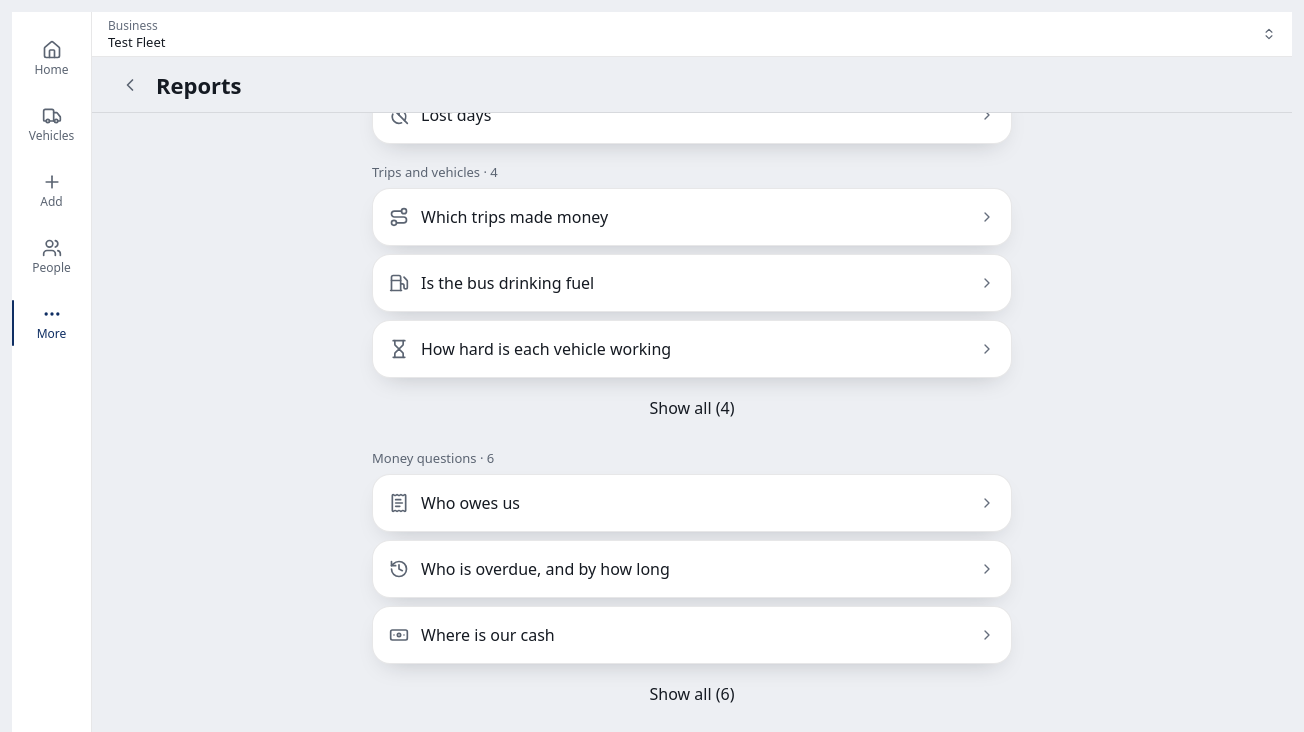
Test: the catalogue also shows the owner-only pair for owner_manager
(page scrolled)
Expected: the text "How hard is each vehicle working" is shown, [421,337,671,361]
Click the button "Show all (6)": (692, 694) [372,672,1012,716]
(page scrolled)
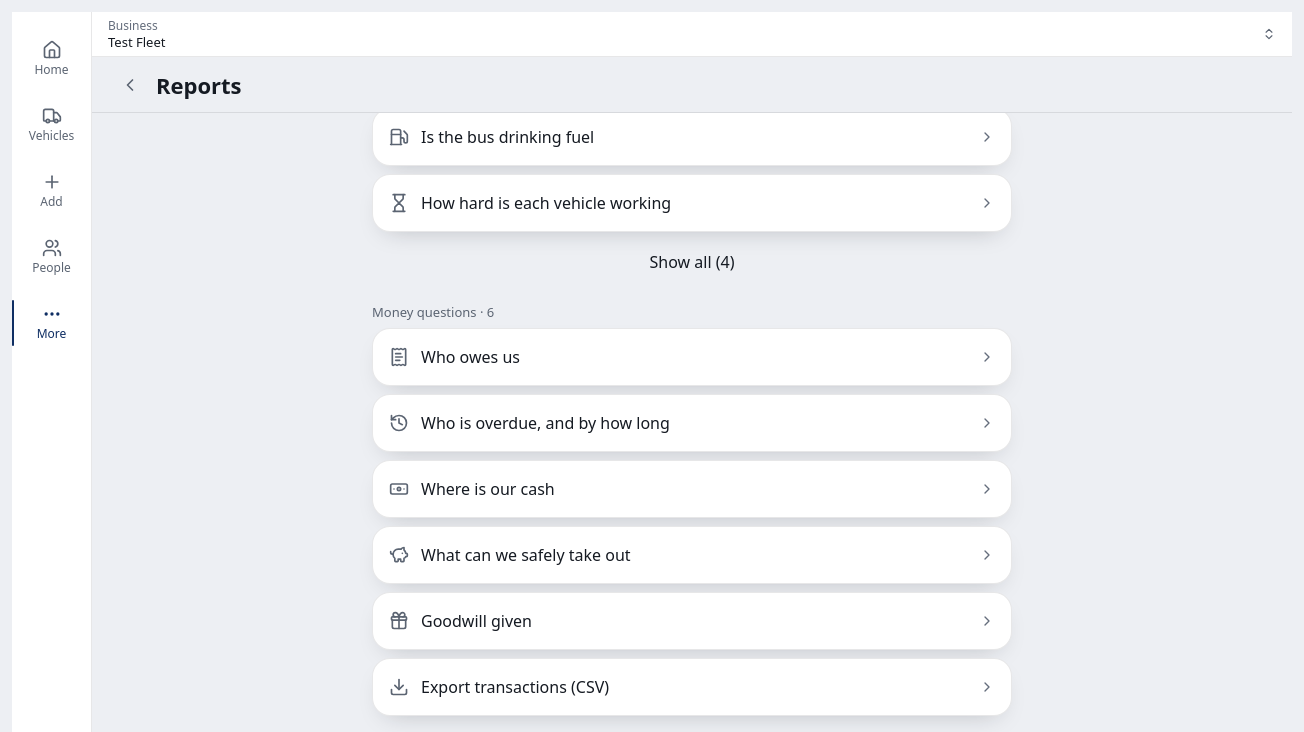
Expected: the text "Goodwill given" is shown, [421,609,532,633]
